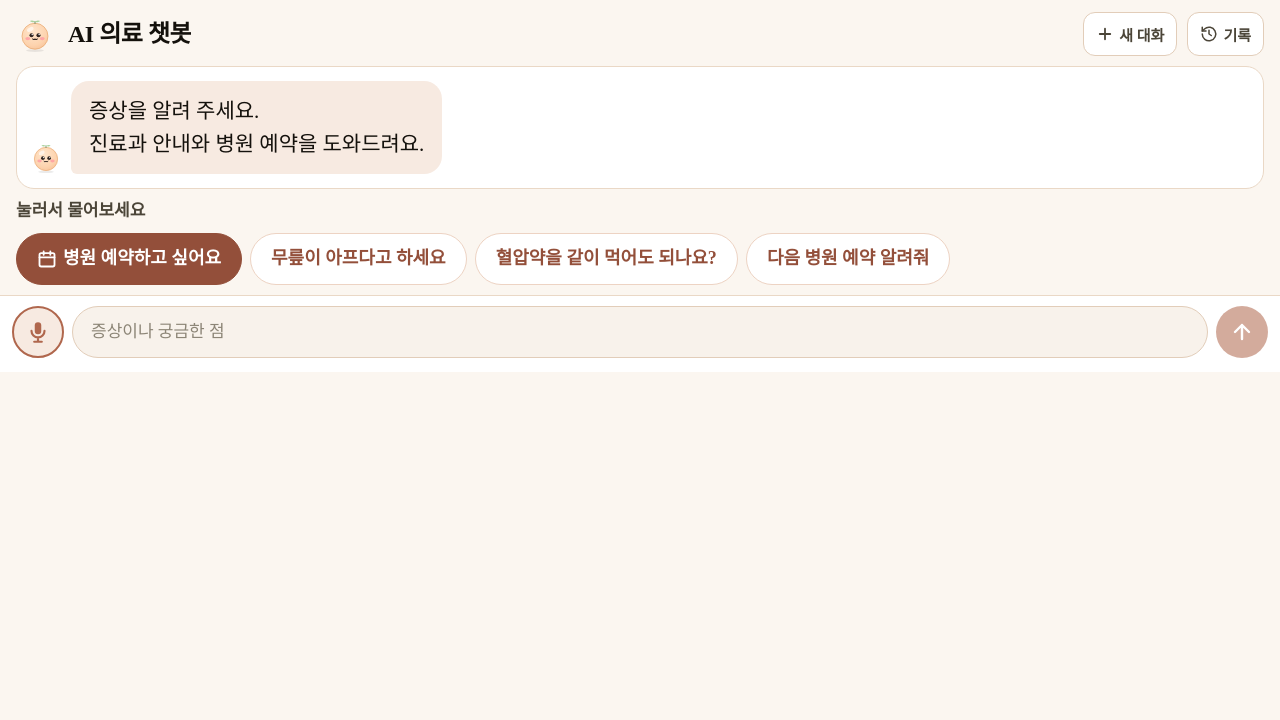
Test: 보호자 AI 의료 챗봇 › 보호자 상담 기록은 누구의 상담인지 나눠 보인다 - 연결된 어르신 모두(0건 포함)·내 상담, 대화마다 대상 표시 (2026-11-11, 2026-11-26)
Click the button named "상담 기록" at (1226, 34), box [1187,12,1264,56]
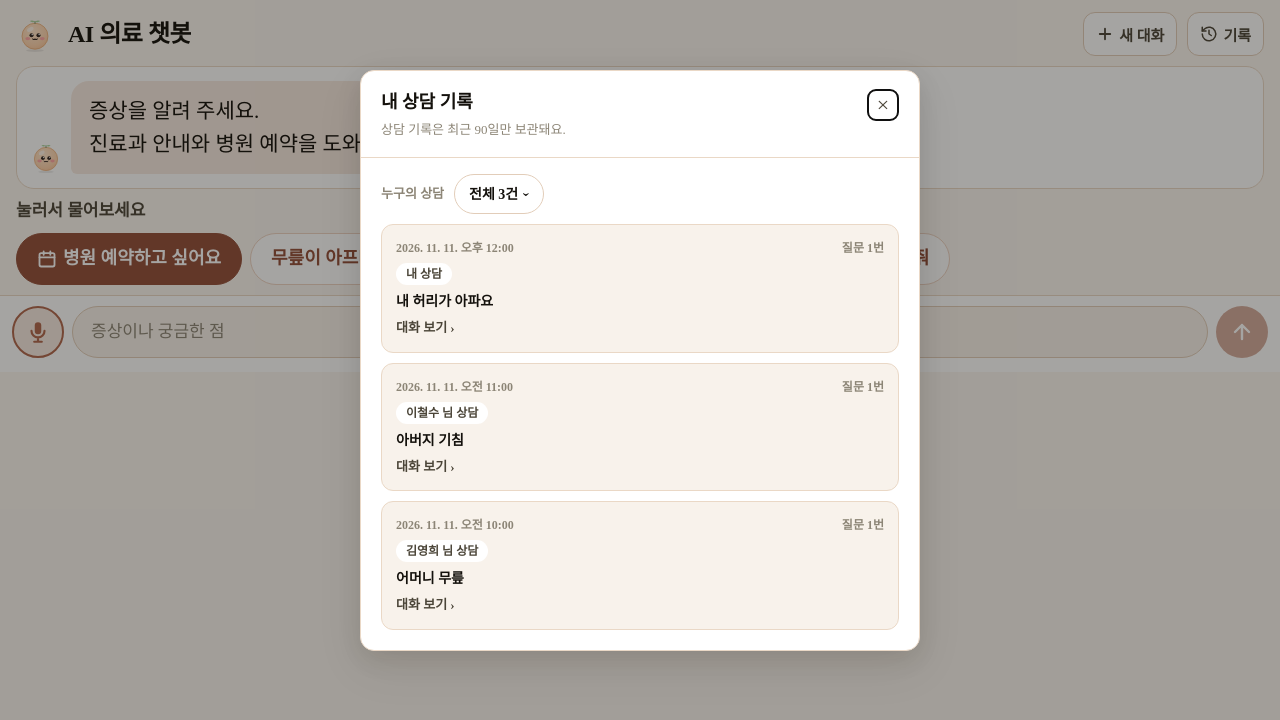
Expected: the button with aria-label "누구의 상담: 전체 3건" is shown
Click the button with aria-label "누구의 상담:" at (499, 194), box [454,174,544,214]
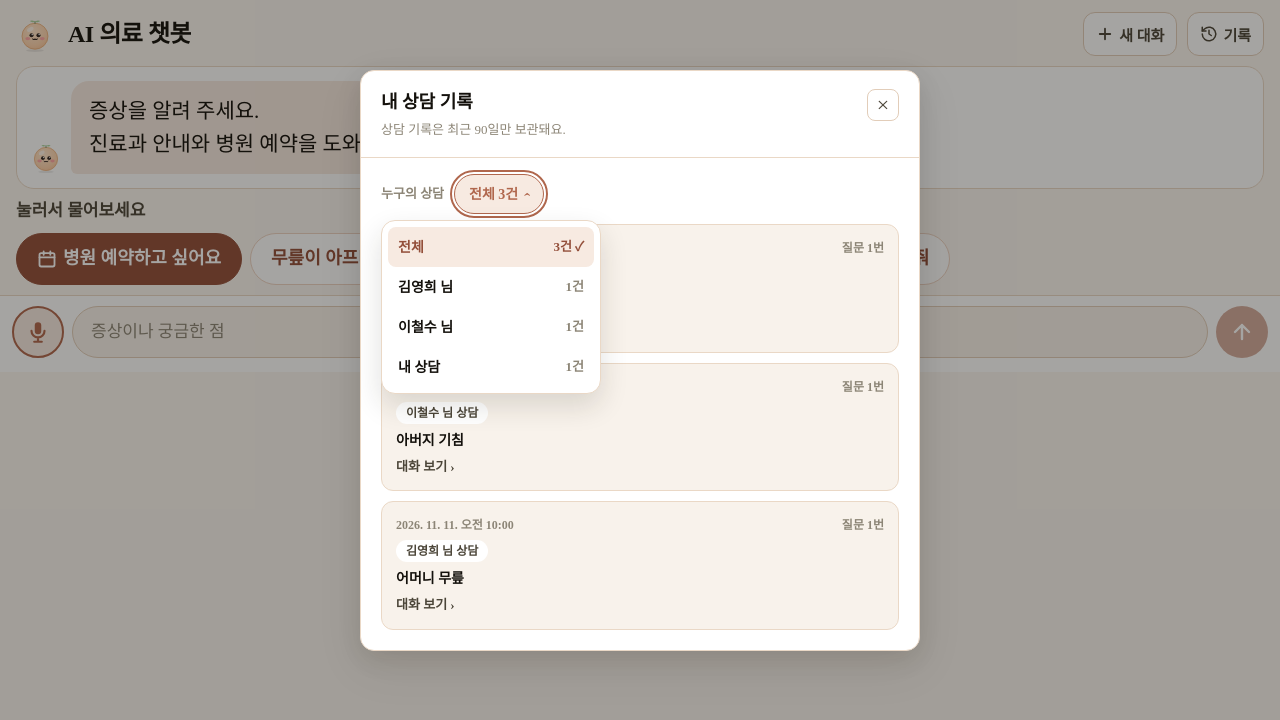
Click the button with aria-label "누구의 상담:" at (499, 194), box [454,174,544,214]
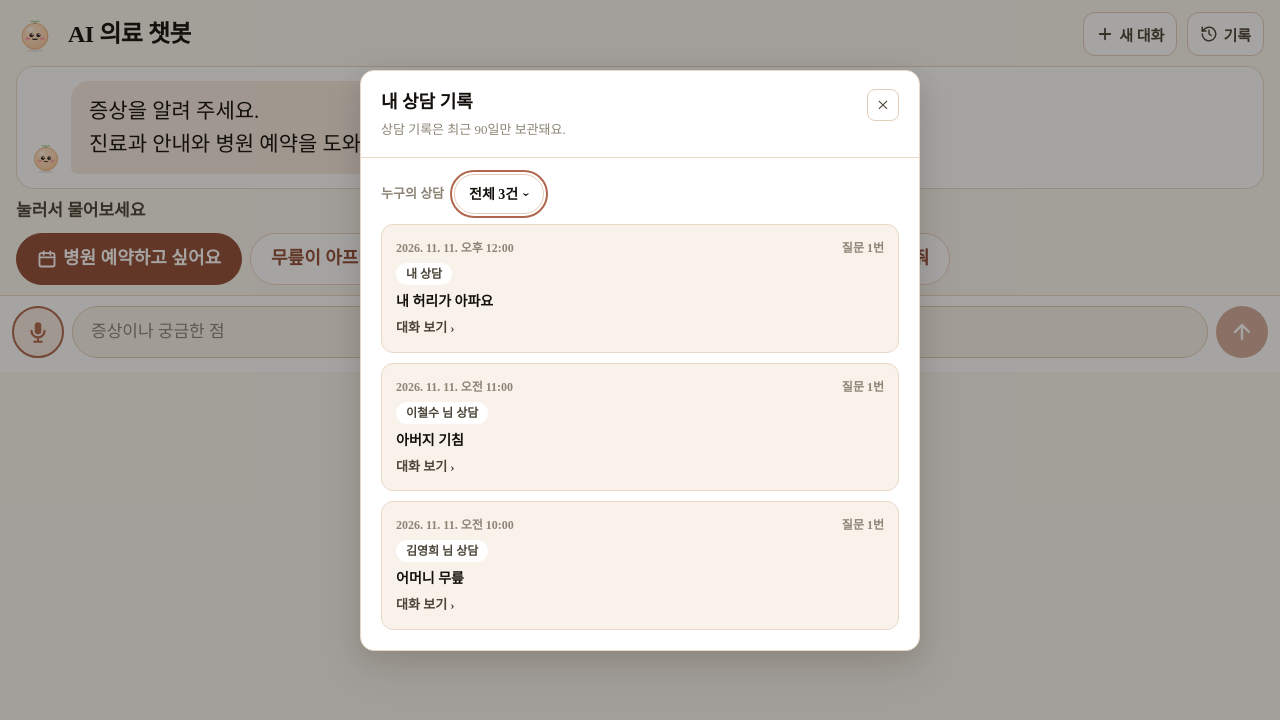
Expected: the button "2026. 11. 11. 오전 11:00 질문 1번 이철수 님 상담 아버지 기침 대화 보기 ›" is shown, [381,362,899,491]
Expected: the button "2026. 11. 11. 오후 12:00 질문 1번 내 상담 내 허리가 아파요 대화 보기 ›" is shown, [381,224,899,352]
Click the button with aria-label "누구의 상담:" at (499, 194), box [454,174,544,214]
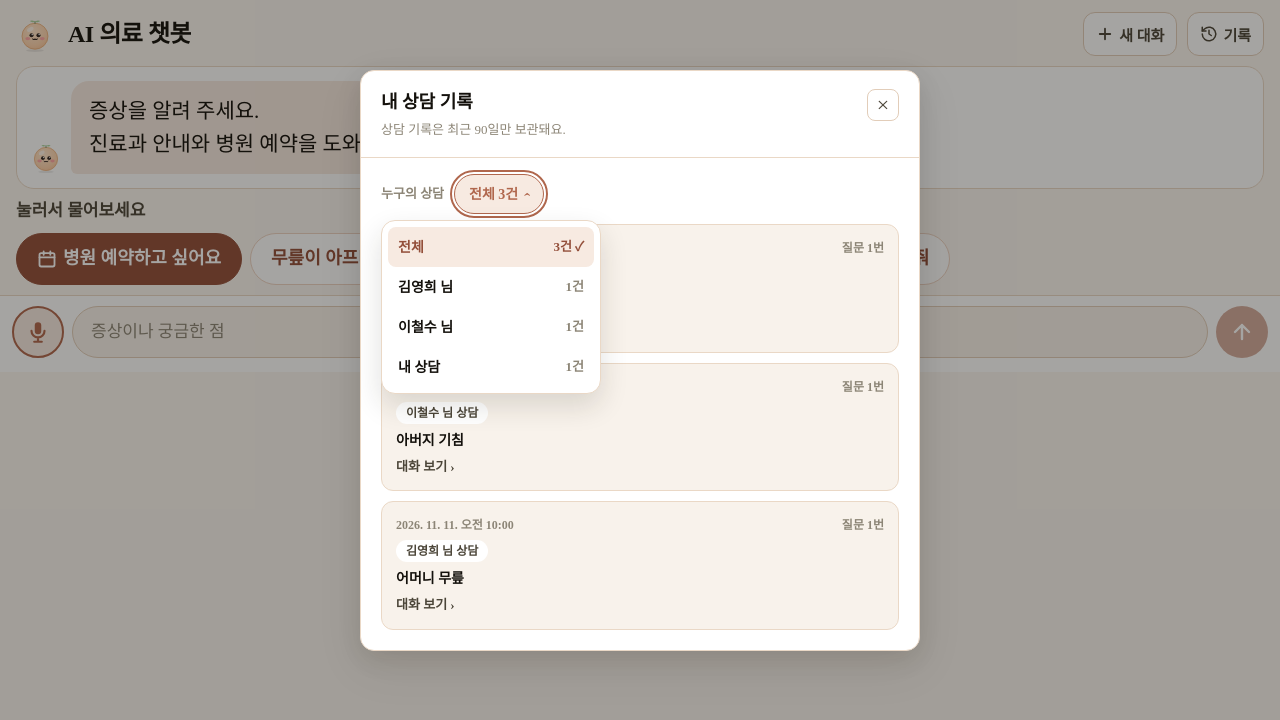
Click the button "이철수 님 1건" at (491, 327), box [388,307,594,347]
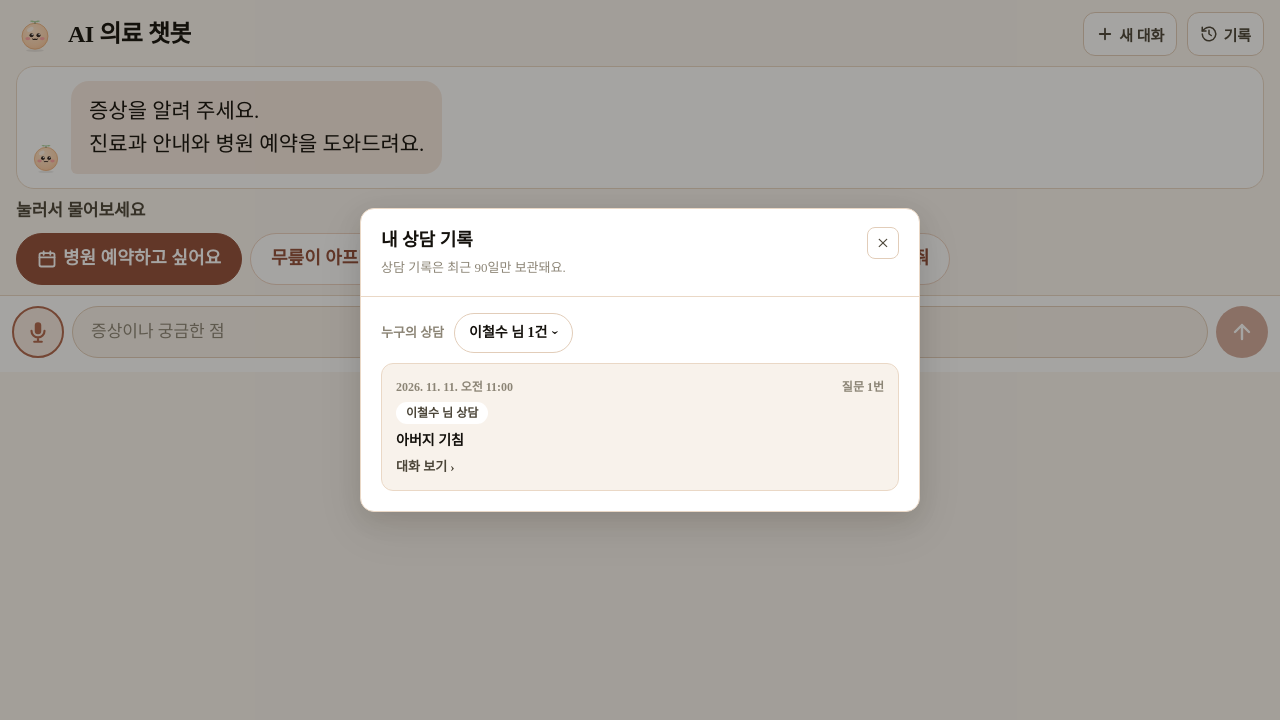
Expected: the button "2026. 11. 11. 오전 11:00 질문 1번 이철수 님 상담 아버지 기침 대화 보기 ›" is shown, [381,362,899,491]
Expected: the button with aria-label "누구의 상담: 이철수 님 1건" is shown, [454,312,573,352]
